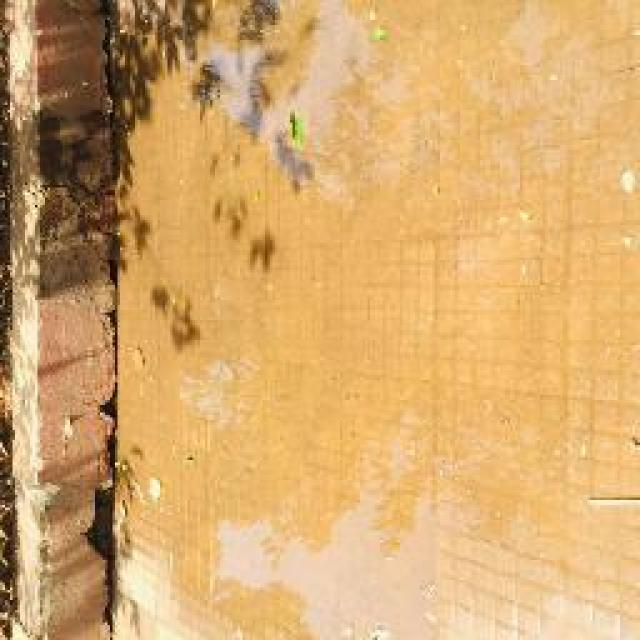stagnation: (207, 478, 458, 640), (200, 0, 370, 210)
